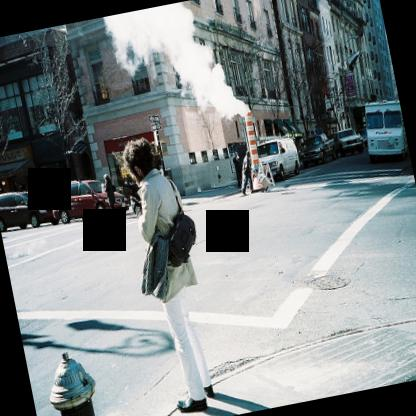backpack: (165, 174, 197, 268)
